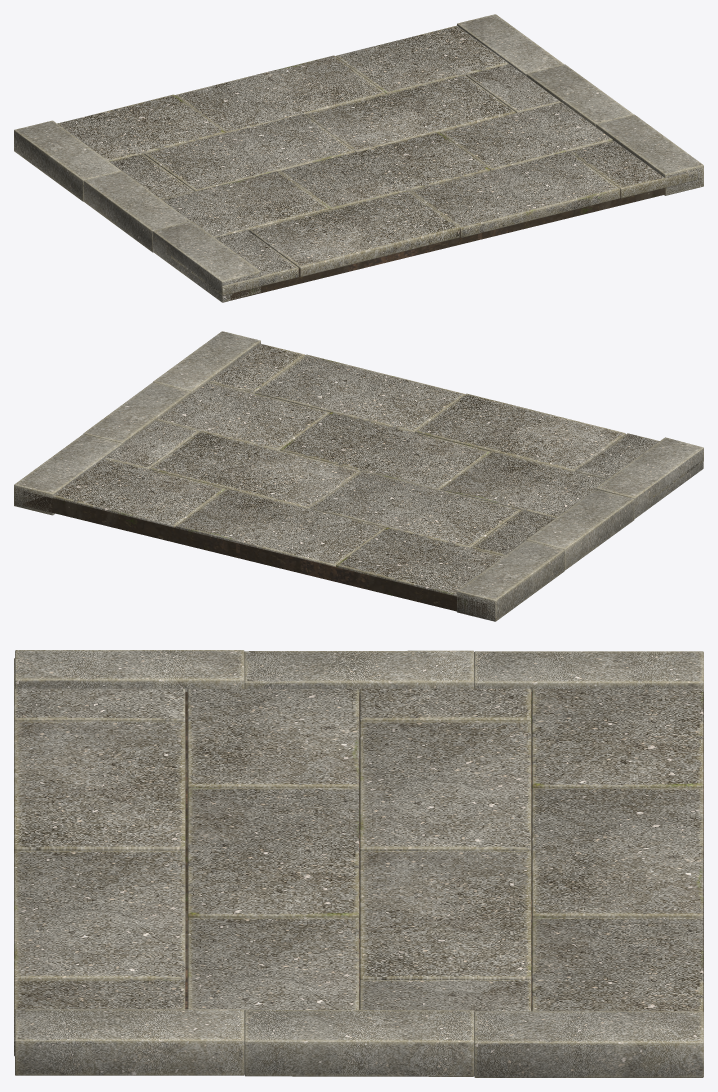
File: StonePaving.fbx
The picture shows the model from 3 angles, top to bottom: view 1: azimuth 30°, elevation 25°; view 2: azimuth 150°, elevation 25°; view 3: azimuth 270°, elevation 25°; orthographic projection. The views are drawn at different scales.
Visible parts, largest first — view 1: StonePaving; view 2: StonePaving; view 3: StonePaving.
Boxes of the visible parts, x1,y1,x2,y2 form: StonePaving: (14, 14, 703, 302); StonePaving: (14, 331, 703, 621); StonePaving: (14, 650, 703, 1077).
Bounding box in the file's own units: 4.01 × 0.1973 × 3.
